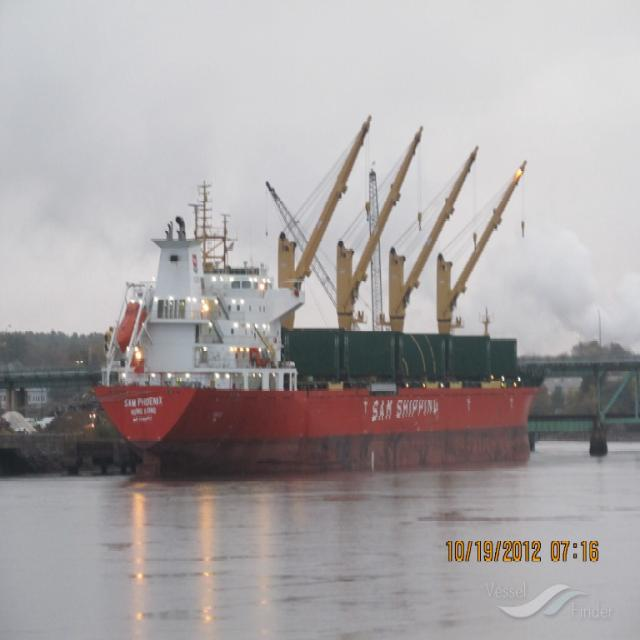OCR: (370, 400, 442, 430), (120, 392, 167, 432)
